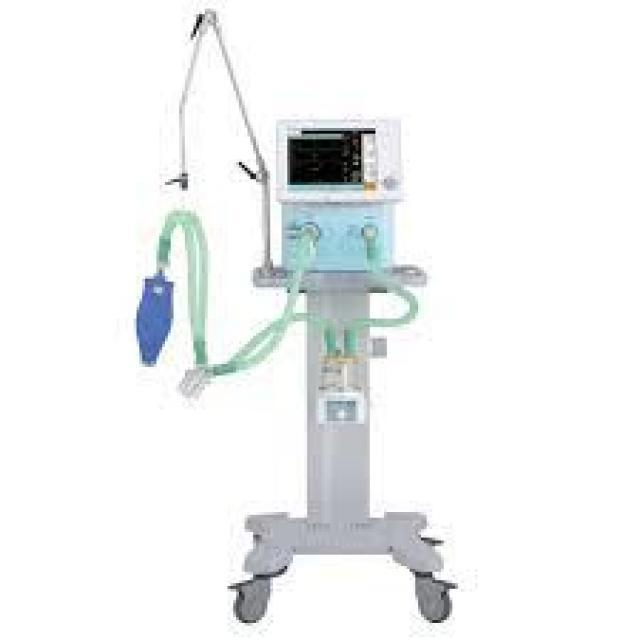ventilator: (102, 17, 543, 628)
